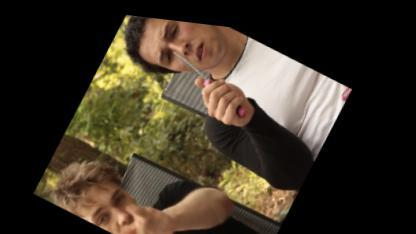knife: (150, 38, 250, 113)
